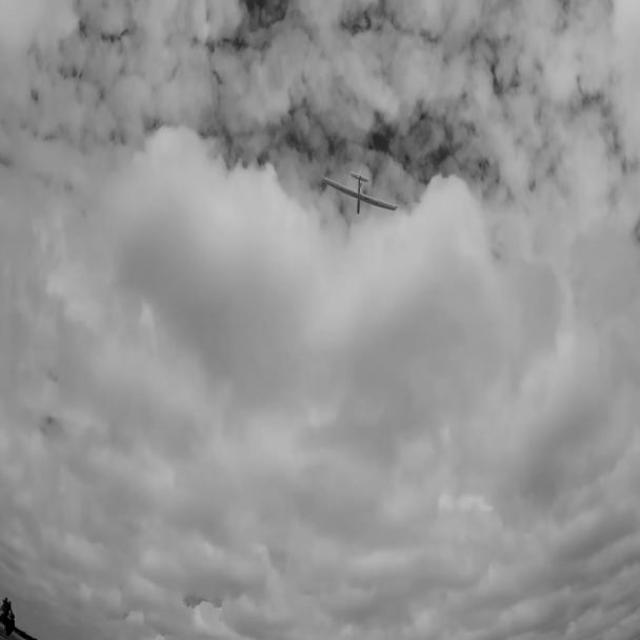iha: (353, 170, 367, 221)
